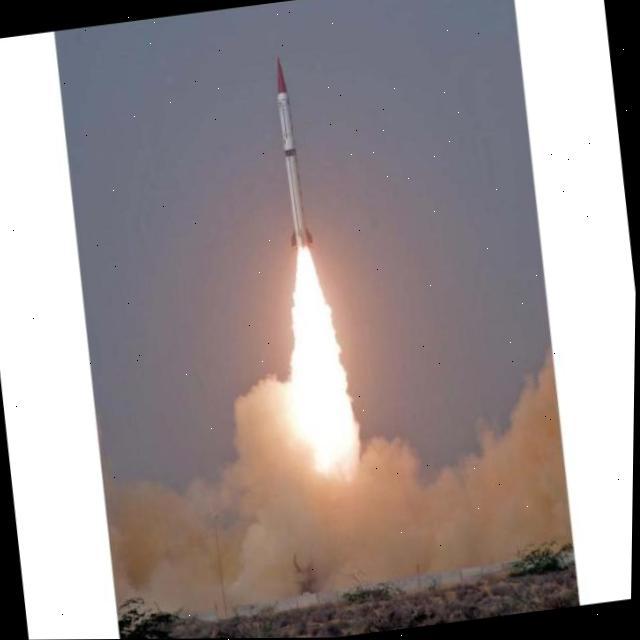missile: (242, 51, 328, 269)
